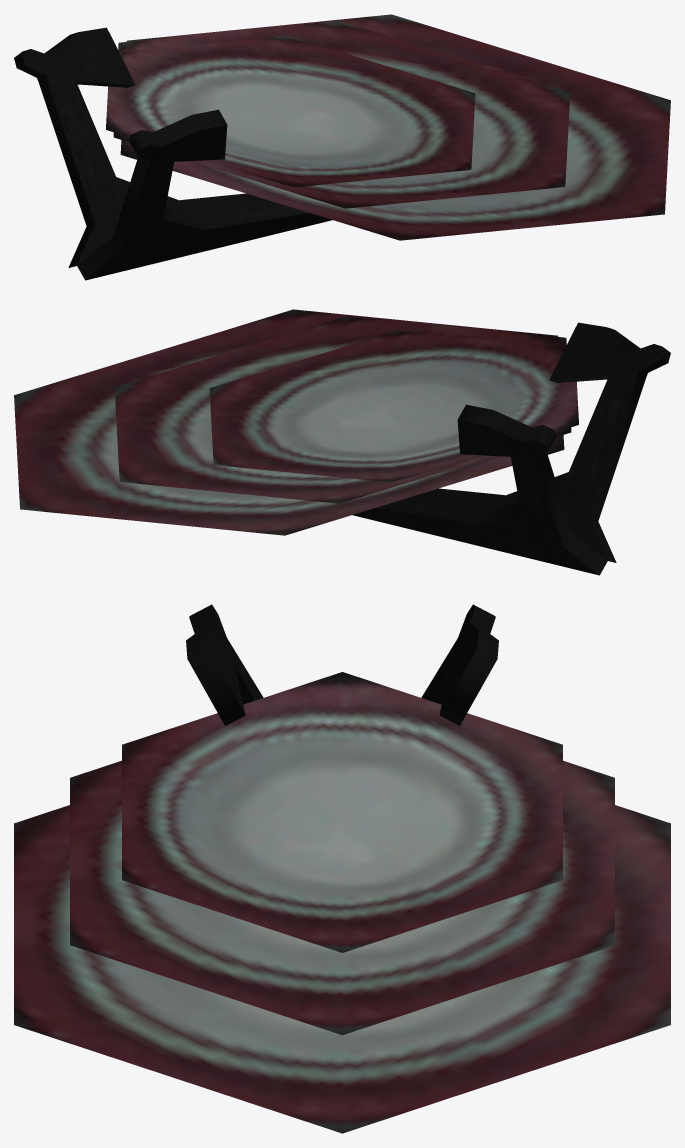
The model's file is prague_china_plates_stand_red_lod2.glb.
3 renders of one model, top to bottom at view 1: azimuth 30°, elevation 25°; view 2: azimuth 150°, elevation 25°; view 3: azimuth 270°, elevation 25°, orthographic. The views are drawn at different scales.
Visible parts, largest first — view 1: surf0; view 2: surf0; view 3: surf0.
Part boxes in pixels (x1,y1,x2,y2): surf0: (14, 14, 670, 280); surf0: (14, 309, 670, 575); surf0: (14, 604, 670, 1133).
Size of the model in its own units: 14.27 by 4.28 by 11.36.
